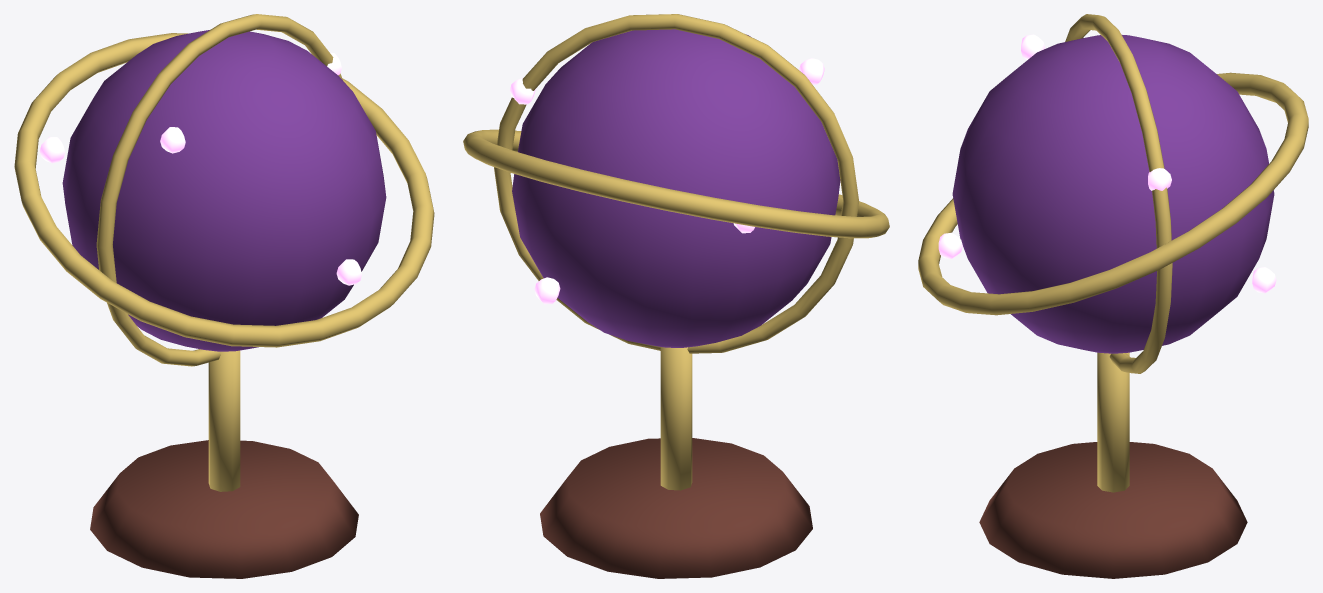
The model's file is globe_astral.glb.
3 views of the same model, side by side, from view 1: azimuth 30°, elevation 25°; view 2: azimuth 150°, elevation 25°; view 3: azimuth 270°, elevation 25° (orthographic). The views are drawn at different scales.
Visible parts, largest first — view 1: GD_globe_astral__m2, GD_globe_astral__m1, GD_globe_astral__m0, GD_globe_astral__m3; view 2: GD_globe_astral__m2, GD_globe_astral__m0, GD_globe_astral__m1, GD_globe_astral__m3; view 3: GD_globe_astral__m2, GD_globe_astral__m0, GD_globe_astral__m1, GD_globe_astral__m3.
Boxes of the visible parts, x1,y1,x2,y2 form: GD_globe_astral__m2: (62, 30, 386, 351); GD_globe_astral__m1: (14, 14, 434, 491); GD_globe_astral__m0: (90, 440, 358, 578); GD_globe_astral__m3: (39, 52, 361, 285); GD_globe_astral__m2: (512, 29, 840, 347); GD_globe_astral__m0: (540, 438, 812, 578); GD_globe_astral__m1: (463, 14, 889, 490); GD_globe_astral__m3: (509, 58, 824, 304); GD_globe_astral__m2: (952, 35, 1274, 353); GD_globe_astral__m0: (979, 442, 1247, 578); GD_globe_astral__m1: (918, 14, 1308, 492); GD_globe_astral__m3: (938, 34, 1276, 293).
Size of the model in its own units: 0.316 by 0.406 by 0.2911.
